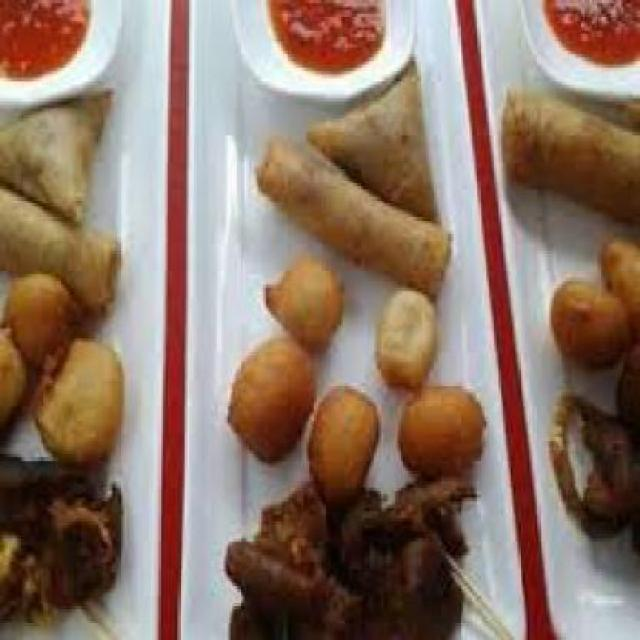samosa: (308, 55, 444, 210)
spring rolls: (254, 128, 451, 292), (498, 78, 638, 210)
